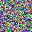chimney: (1, 8, 26, 26)
expresswayservicearea: (1, 5, 15, 24)
harbor: (8, 1, 21, 27)
